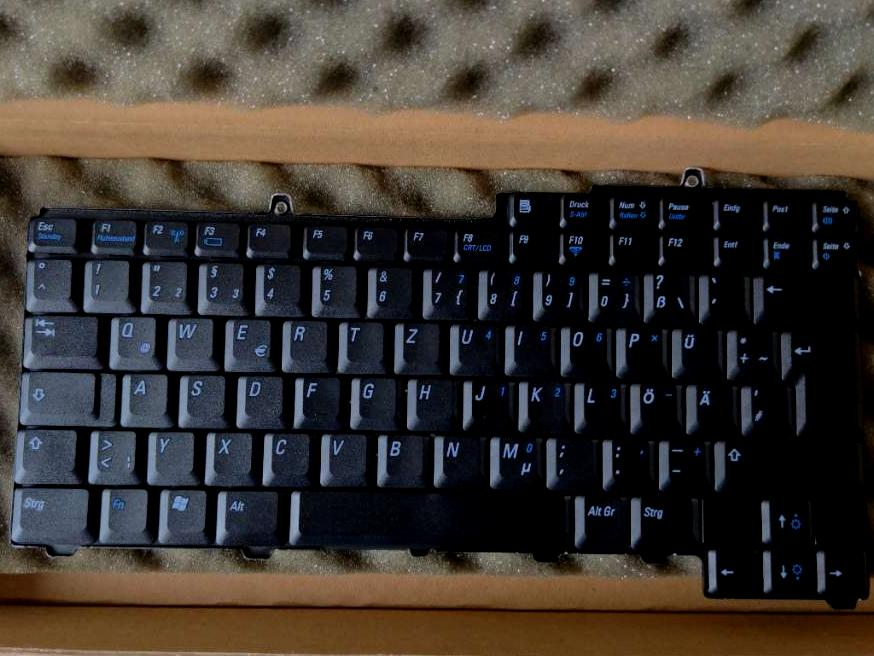0: (588, 267, 640, 321)
1: (81, 255, 131, 312)
2: (140, 257, 189, 311)
3: (195, 258, 246, 314)
4: (254, 260, 303, 314)
5: (310, 262, 359, 316)
6: (366, 263, 414, 318)
7: (422, 264, 471, 319)
8: (477, 265, 528, 320)
9: (533, 267, 584, 321)
a: (119, 370, 169, 425)
accent: (699, 270, 748, 324)
ae: (686, 381, 737, 434)
alt-left: (215, 487, 280, 543)
altgr-right: (572, 491, 629, 547)
b: (375, 430, 427, 486)
c: (262, 429, 314, 485)
caret: (26, 255, 73, 311)
comma: (545, 433, 598, 490)
d: (235, 372, 286, 427)
del: (753, 271, 858, 327)
e: (223, 315, 275, 370)
enter: (780, 329, 860, 438)
f: (295, 372, 342, 426)
g: (349, 373, 398, 428)
h: (406, 375, 458, 429)
hash: (740, 381, 791, 436)
i: (504, 321, 556, 375)
j: (463, 376, 514, 430)
k: (521, 378, 570, 431)
keyboard: (1, 182, 873, 598)
l: (575, 379, 626, 433)
less: (86, 426, 137, 483)
m: (488, 431, 542, 489)
minus: (659, 436, 710, 492)
n: (432, 431, 486, 487)
o: (558, 322, 611, 377)
oe: (631, 381, 681, 434)
p: (615, 323, 667, 377)
plus: (725, 325, 776, 380)
point: (603, 435, 654, 490)
q: (107, 312, 158, 368)
r: (279, 316, 330, 371)
s: (177, 371, 228, 426)
shift-left: (13, 426, 78, 483)
shift-lock: (18, 368, 98, 424)
shift-right: (715, 436, 861, 494)
space: (296, 488, 567, 547)
ss: (643, 268, 694, 323)
strg-left: (8, 484, 90, 543)
strg-right: (631, 493, 695, 547)
t: (338, 317, 386, 370)
tab: (23, 312, 99, 366)
u: (448, 320, 500, 375)
ue: (669, 323, 722, 379)
v: (320, 429, 369, 485)
w: (165, 313, 216, 370)
x: (205, 428, 255, 484)
y: (145, 428, 196, 484)
z: (392, 318, 442, 373)
